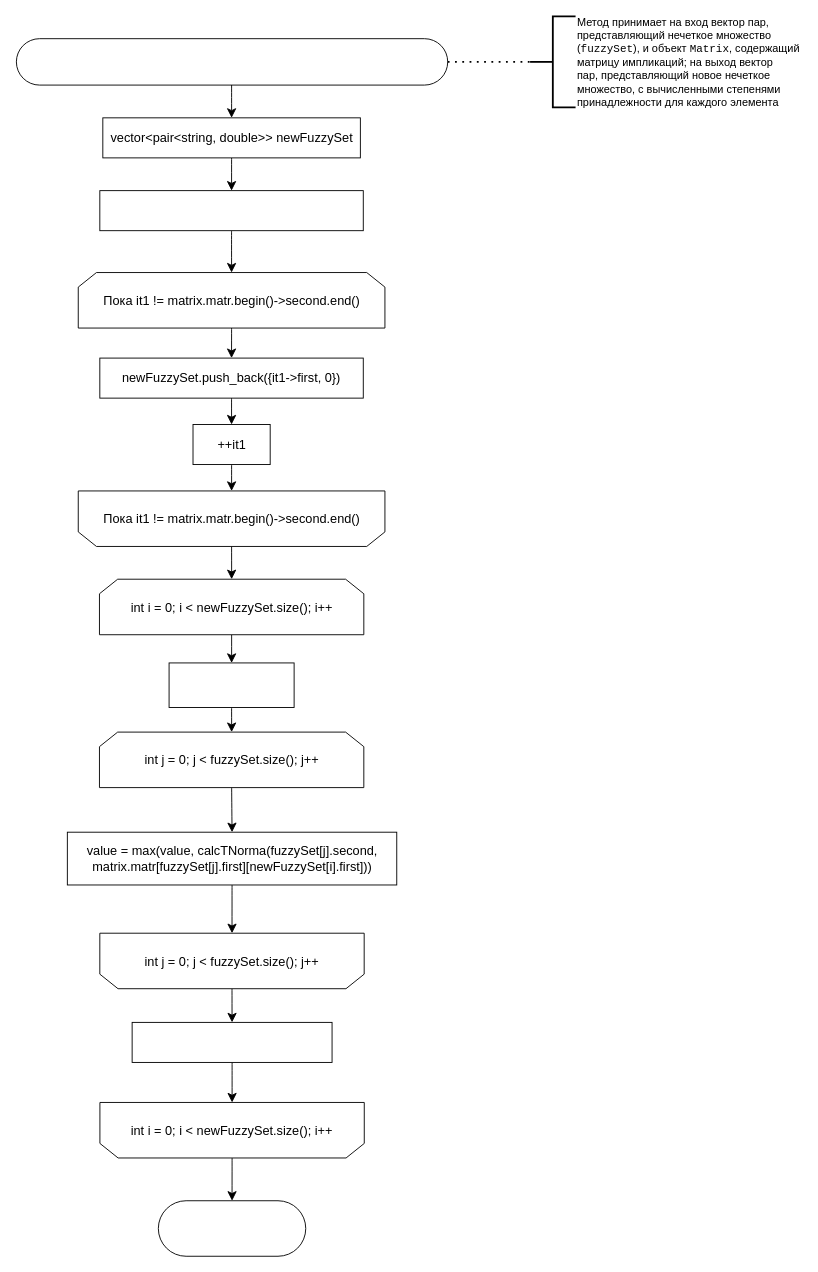
The diagram is 818 pixels wide and 1272 high, and some of its shapes have lost their labels. The shapes that lost their labels are listed below. From the top down, each one's centre as x and y in pixels, then its label:
At [231,61]: "fuzzyConclusion(vector<pair<string, double>>& fuzzySet, Matrix& matrix)".
At [231,210]: "auto it1 = matrix.matr.begin()->second.begin()".
At [231,685]: "double value = 0".
At [231,1041]: "newFuzzySet[i].second = value".
At [231,1228]: "return newFuzzySet".
